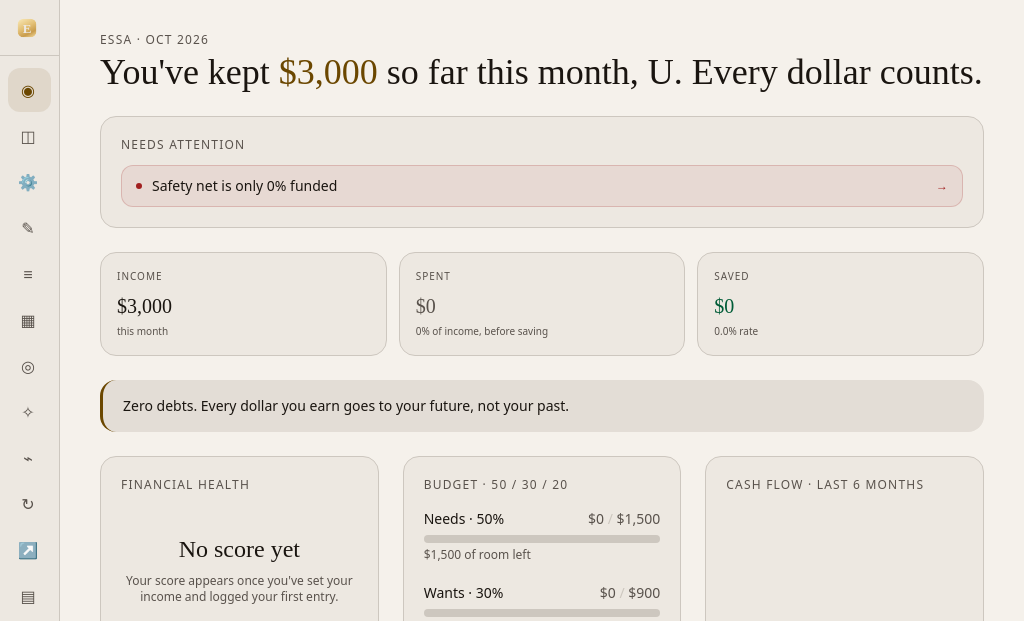
a save that fails tells the user (ERR-01) › says so plainly, and the entry doesn't stay on screen looking saved
Expected: the button named "Setup" is shown, [8,160,51,204]
Click the button named "Wishlist": (30, 412) [8,390,51,434]
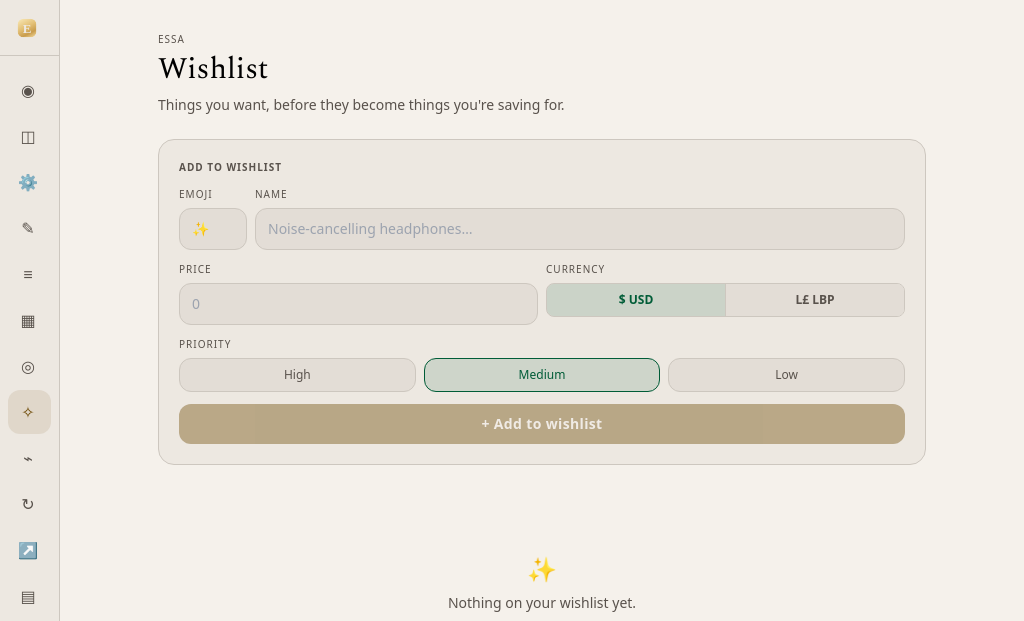
Expected: the field with placeholder "Noise-cancelling headphones…" is shown
In the field with placeholder "Noise-cancelling headphones…": (580, 229) [255,208,905,250], type "Standing desk"
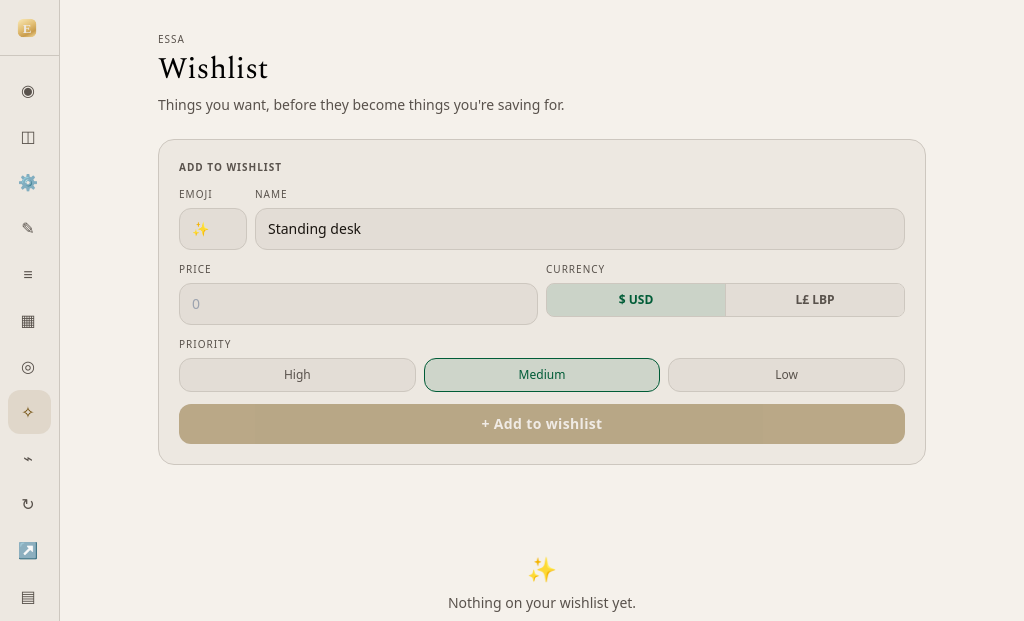
In the field with id "wish-price": (358, 304) [179,283,538,325], type "300"
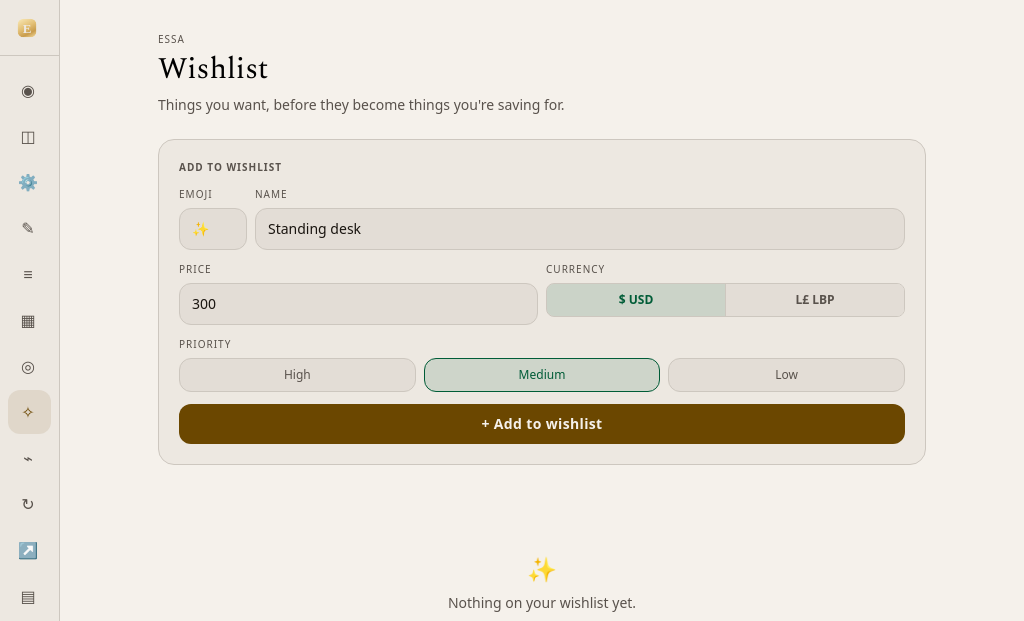
Click the button "+ Add to wishlist": (542, 424) [179,404,905,444]
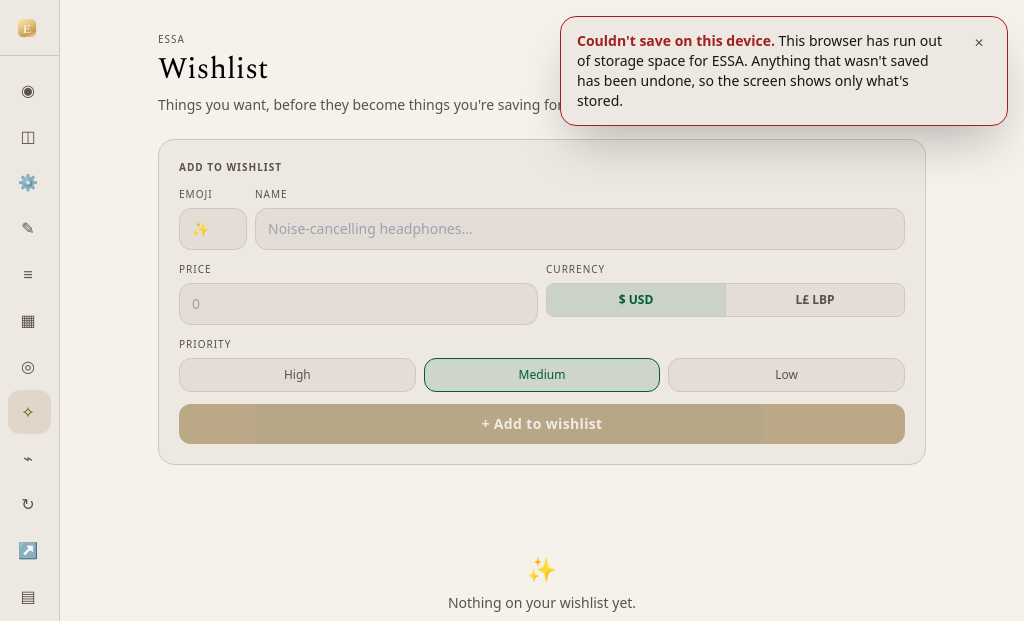
Expected: the text "Nothing on your wishlist yet." is shown, [448,593,636,612]
Expected: the message shows "Couldn.t save on this device", [577,31,775,50]
Expected: the message shows "run out of storage space", [577,31,942,70]
